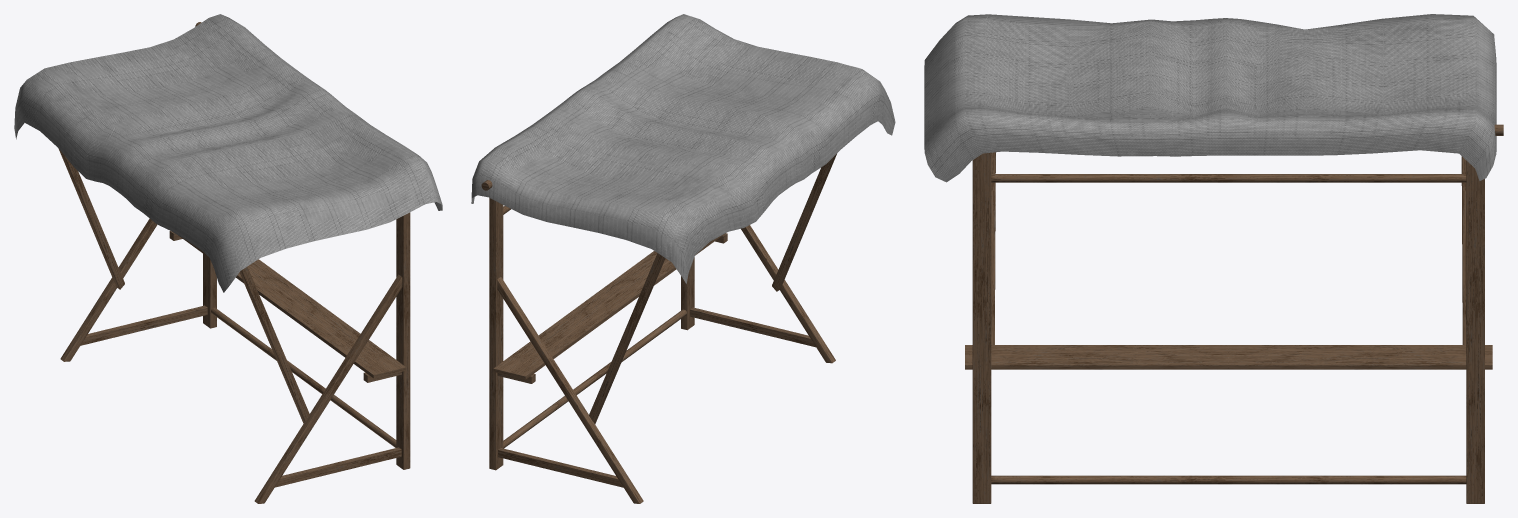
Rendered from SM_market_03.fbx.
The picture shows the model from 3 angles, left to right: view 1: azimuth 30°, elevation 25°; view 2: azimuth 150°, elevation 25°; view 3: azimuth 270°, elevation 25°; orthographic projection. The views are drawn at different scales.
Parts seen in each view (by area): view 1: SM_market_03; view 2: SM_market_03; view 3: SM_market_03.
Boxes of the visible parts, box(x1,y1,x2,y2) form: SM_market_03: box(14, 14, 442, 503); SM_market_03: box(471, 14, 895, 503); SM_market_03: box(924, 14, 1503, 503).
Bounding box in the file's own units: 180 × 330 × 249.
Materials: 2 (2 with a texture image).
